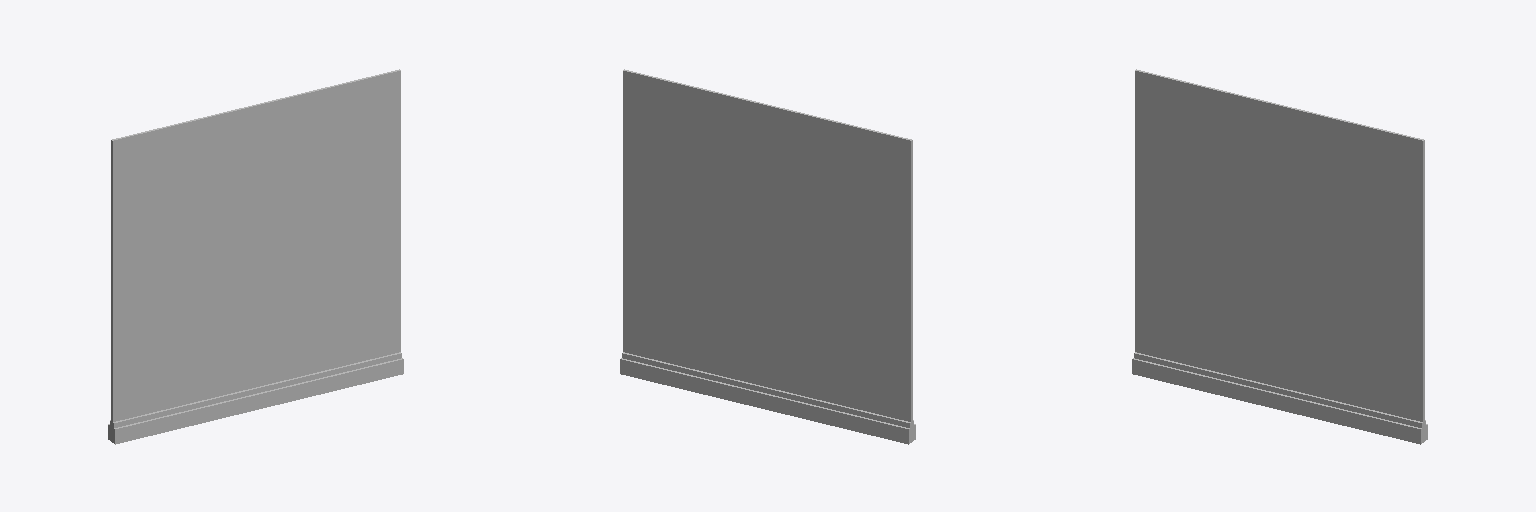
File: wall.vox.obj
3 renders of one model, left to right at view 1: azimuth 30°, elevation 25°; view 2: azimuth 150°, elevation 25°; view 3: azimuth 330°, elevation 25°, orthographic.
Parts seen in each view (by area): view 1: walll; view 2: walll; view 3: walll.
Part boxes in pixels (left/top/right/bottom): walll: left=108, top=69, right=403, bottom=444; walll: left=620, top=69, right=915, bottom=444; walll: left=1132, top=69, right=1427, bottom=444.
Size of the model in its own units: 12 by 12 by 0.5.